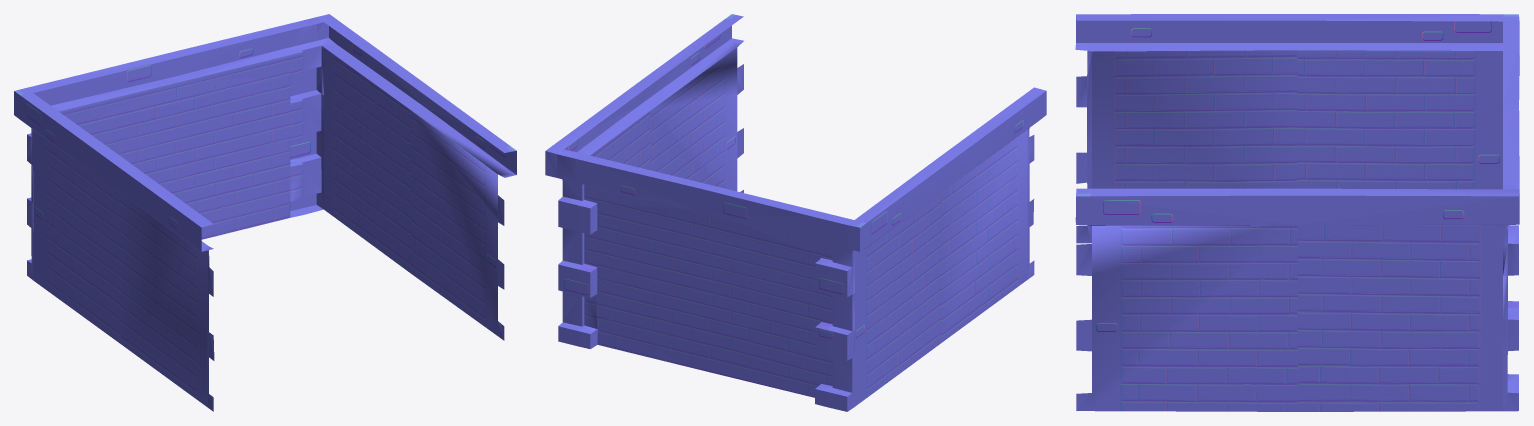
Rendered from wall3.fbx.
3 views of the same model, side by side, from view 1: azimuth 30°, elevation 25°; view 2: azimuth 150°, elevation 25°; view 3: azimuth 270°, elevation 25° (orthographic). The views are drawn at different scales.
Visible parts, largest first — view 1: HouseWall; view 2: HouseWall; view 3: HouseWall.
Boxes of the visible parts, left/top/right/bottom form: HouseWall: left=14, top=14, right=516, bottom=411; HouseWall: left=545, top=14, right=1046, bottom=411; HouseWall: left=1075, top=14, right=1519, bottom=411.
Bounding box in the file's own units: 131 × 75.1 × 135.
